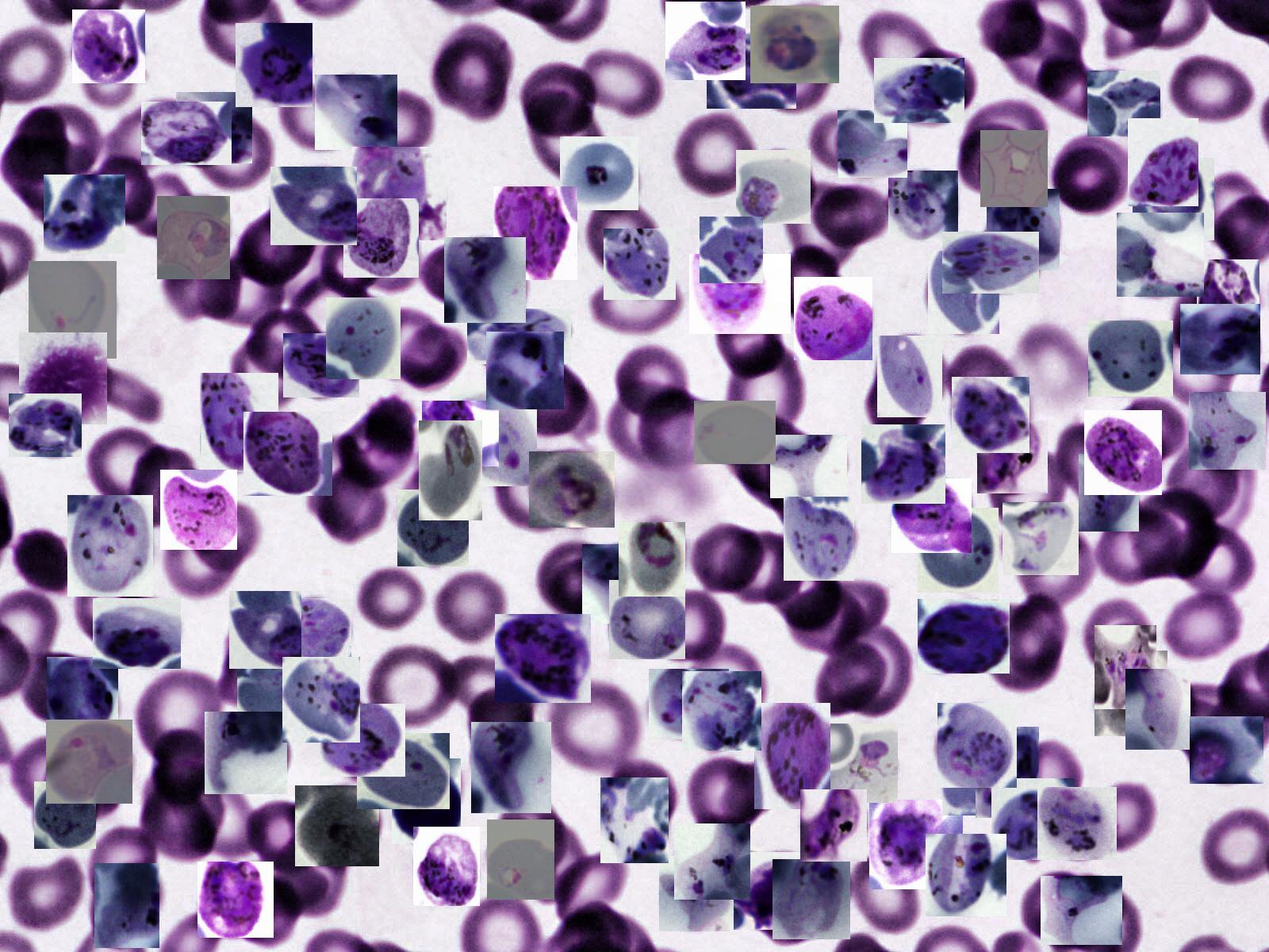Infected: (450, 382, 537, 486), (351, 148, 447, 240), (67, 495, 153, 597), (29, 261, 117, 359), (495, 614, 591, 703), (869, 800, 963, 889), (689, 254, 791, 334), (754, 703, 830, 809), (20, 333, 107, 424), (493, 186, 577, 280), (200, 373, 278, 472), (243, 412, 332, 496), (1117, 213, 1204, 297), (471, 722, 551, 813), (47, 720, 132, 804), (582, 544, 671, 624), (357, 733, 450, 809), (444, 237, 526, 323), (918, 599, 1010, 674), (991, 778, 1075, 860), (918, 508, 999, 593), (750, 6, 839, 83), (295, 785, 379, 866), (937, 704, 1017, 789), (270, 167, 357, 245), (205, 712, 287, 794), (861, 424, 945, 504), (282, 657, 360, 743), (707, 34, 796, 109), (1133, 158, 1214, 240), (730, 852, 815, 930), (1084, 410, 1162, 495), (529, 451, 615, 528), (926, 834, 1006, 916), (794, 278, 872, 361), (1088, 321, 1173, 397), (44, 175, 125, 254), (236, 23, 312, 107), (665, 2, 746, 80), (419, 420, 482, 520), (93, 598, 181, 669), (682, 671, 761, 750), (320, 704, 405, 777), (773, 859, 850, 939), (1128, 118, 1198, 206), (315, 75, 397, 150), (1095, 651, 1167, 736), (161, 470, 237, 550), (891, 478, 972, 553), (326, 298, 401, 379), (942, 232, 1039, 294), (1189, 392, 1266, 470), (486, 332, 564, 409), (609, 581, 685, 660), (344, 198, 419, 278), (987, 189, 1060, 271), (158, 196, 230, 279), (600, 777, 669, 863), (823, 724, 898, 803), (928, 251, 999, 334), (784, 497, 854, 581), (392, 758, 461, 843), (197, 862, 274, 938), (674, 823, 750, 900), (952, 377, 1029, 453), (874, 58, 964, 123), (1037, 787, 1117, 860), (560, 136, 638, 210), (976, 727, 1039, 818), (141, 102, 232, 165), (467, 309, 571, 364), (229, 591, 301, 669), (649, 670, 729, 740), (1180, 305, 1260, 375), (1041, 876, 1122, 945), (736, 150, 811, 224), (660, 856, 734, 931), (1003, 502, 1079, 575), (397, 489, 469, 566), (47, 657, 118, 735), (94, 863, 159, 948), (176, 92, 252, 163), (487, 820, 554, 900), (72, 10, 145, 83), (413, 827, 480, 906), (1125, 669, 1190, 750), (877, 336, 942, 417), (980, 130, 1048, 207), (604, 228, 676, 300), (977, 420, 1048, 493), (694, 401, 776, 464), (1095, 625, 1156, 709), (422, 401, 499, 466), (1190, 716, 1263, 784), (619, 522, 685, 597), (274, 598, 351, 662), (888, 171, 958, 241), (800, 789, 867, 862), (283, 333, 359, 397), (770, 435, 847, 498), (1197, 259, 1259, 337), (1087, 71, 1160, 136), (1079, 454, 1139, 532), (838, 111, 907, 178), (10, 393, 82, 457), (237, 662, 309, 722), (700, 217, 763, 284), (34, 781, 96, 849), (942, 754, 1010, 816)
Uninfected: (544, 677, 642, 777), (429, 20, 515, 123), (137, 664, 224, 760), (673, 107, 761, 201), (1129, 486, 1217, 580), (330, 397, 419, 488), (435, 653, 542, 727), (859, 11, 945, 100), (523, 90, 605, 182), (836, 624, 912, 720), (687, 643, 765, 736), (1049, 132, 1133, 217), (994, 16, 1083, 96), (977, 606, 1060, 691), (780, 183, 863, 267), (638, 390, 723, 471), (416, 234, 502, 314), (496, 448, 575, 535), (1152, 327, 1234, 410), (1161, 580, 1242, 664), (1072, 780, 1158, 859), (604, 390, 691, 468), (6, 736, 93, 814), (611, 345, 692, 428), (371, 647, 455, 727), (727, 340, 803, 428), (199, 254, 289, 328), (535, 543, 620, 621), (1169, 51, 1253, 129), (687, 758, 765, 842), (358, 308, 446, 382), (587, 270, 682, 338), (164, 517, 243, 598), (182, 777, 263, 856), (234, 207, 316, 285), (1097, 509, 1182, 584), (770, 543, 842, 631), (105, 98, 183, 179), (312, 463, 389, 545), (7, 851, 82, 935), (16, 105, 102, 178), (1079, 595, 1155, 677), (988, 451, 1068, 528), (0, 136, 76, 217), (1166, 439, 1240, 522), (41, 750, 125, 823), (229, 333, 309, 409), (1018, 529, 1098, 605), (243, 309, 326, 382), (734, 440, 818, 512), (90, 823, 161, 908), (144, 778, 214, 864), (432, 566, 507, 646), (1055, 423, 1125, 508), (21, 651, 94, 732), (275, 835, 347, 917), (578, 47, 661, 118), (548, 846, 625, 922), (756, 38, 834, 113), (1171, 522, 1253, 593), (961, 102, 1045, 171), (72, 570, 145, 649), (90, 430, 165, 506), (196, 117, 275, 189), (719, 753, 801, 822), (355, 561, 429, 637), (1171, 285, 1245, 361), (773, 244, 843, 324), (1004, 591, 1069, 677), (850, 854, 919, 935), (274, 79, 355, 148), (1198, 169, 1266, 251), (524, 62, 598, 137), (688, 524, 763, 598), (512, 361, 585, 437), (899, 48, 976, 120), (522, 821, 588, 905), (241, 800, 321, 869), (1035, 55, 1118, 121), (791, 577, 865, 651), (125, 447, 196, 524), (466, 689, 536, 767), (815, 181, 894, 250), (701, 850, 783, 916), (162, 245, 237, 317), (5, 525, 76, 601), (649, 593, 727, 662), (815, 642, 885, 718), (955, 121, 1025, 196), (708, 308, 784, 377), (232, 870, 301, 946), (725, 535, 803, 602), (606, 758, 677, 831), (948, 344, 1019, 417), (355, 92, 433, 158), (1018, 872, 1090, 943), (584, 198, 657, 268), (151, 727, 213, 809), (128, 174, 201, 243), (86, 155, 155, 228), (186, 504, 261, 571), (811, 113, 892, 175), (320, 225, 386, 301), (867, 365, 936, 437), (401, 464, 464, 540), (1111, 402, 1187, 464), (500, 801, 564, 874), (750, 874, 818, 942), (1014, 743, 1084, 808), (397, 323, 463, 390)
